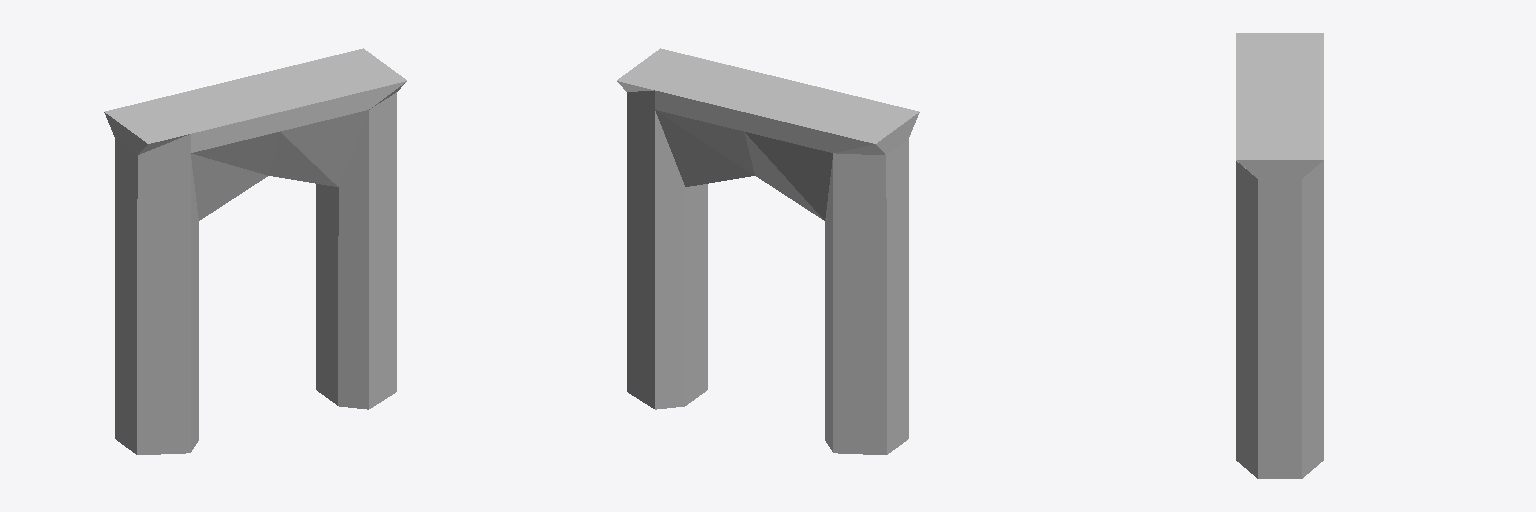
The model's file is stand (1).obj.
The picture shows the model from 3 angles: view 1: azimuth 30°, elevation 25°; view 2: azimuth 150°, elevation 25°; view 3: azimuth 270°, elevation 25°; orthographic projection.
Visible parts, largest first — view 1: cylinder; view 2: cylinder; view 3: cylinder.
Part boxes in pixels (x1,y1,x2,y2): cylinder: (104, 48, 406, 454); cylinder: (617, 48, 919, 454); cylinder: (1236, 33, 1323, 478).
Size of the model in its own units: 6.75 by 7.94 by 2.